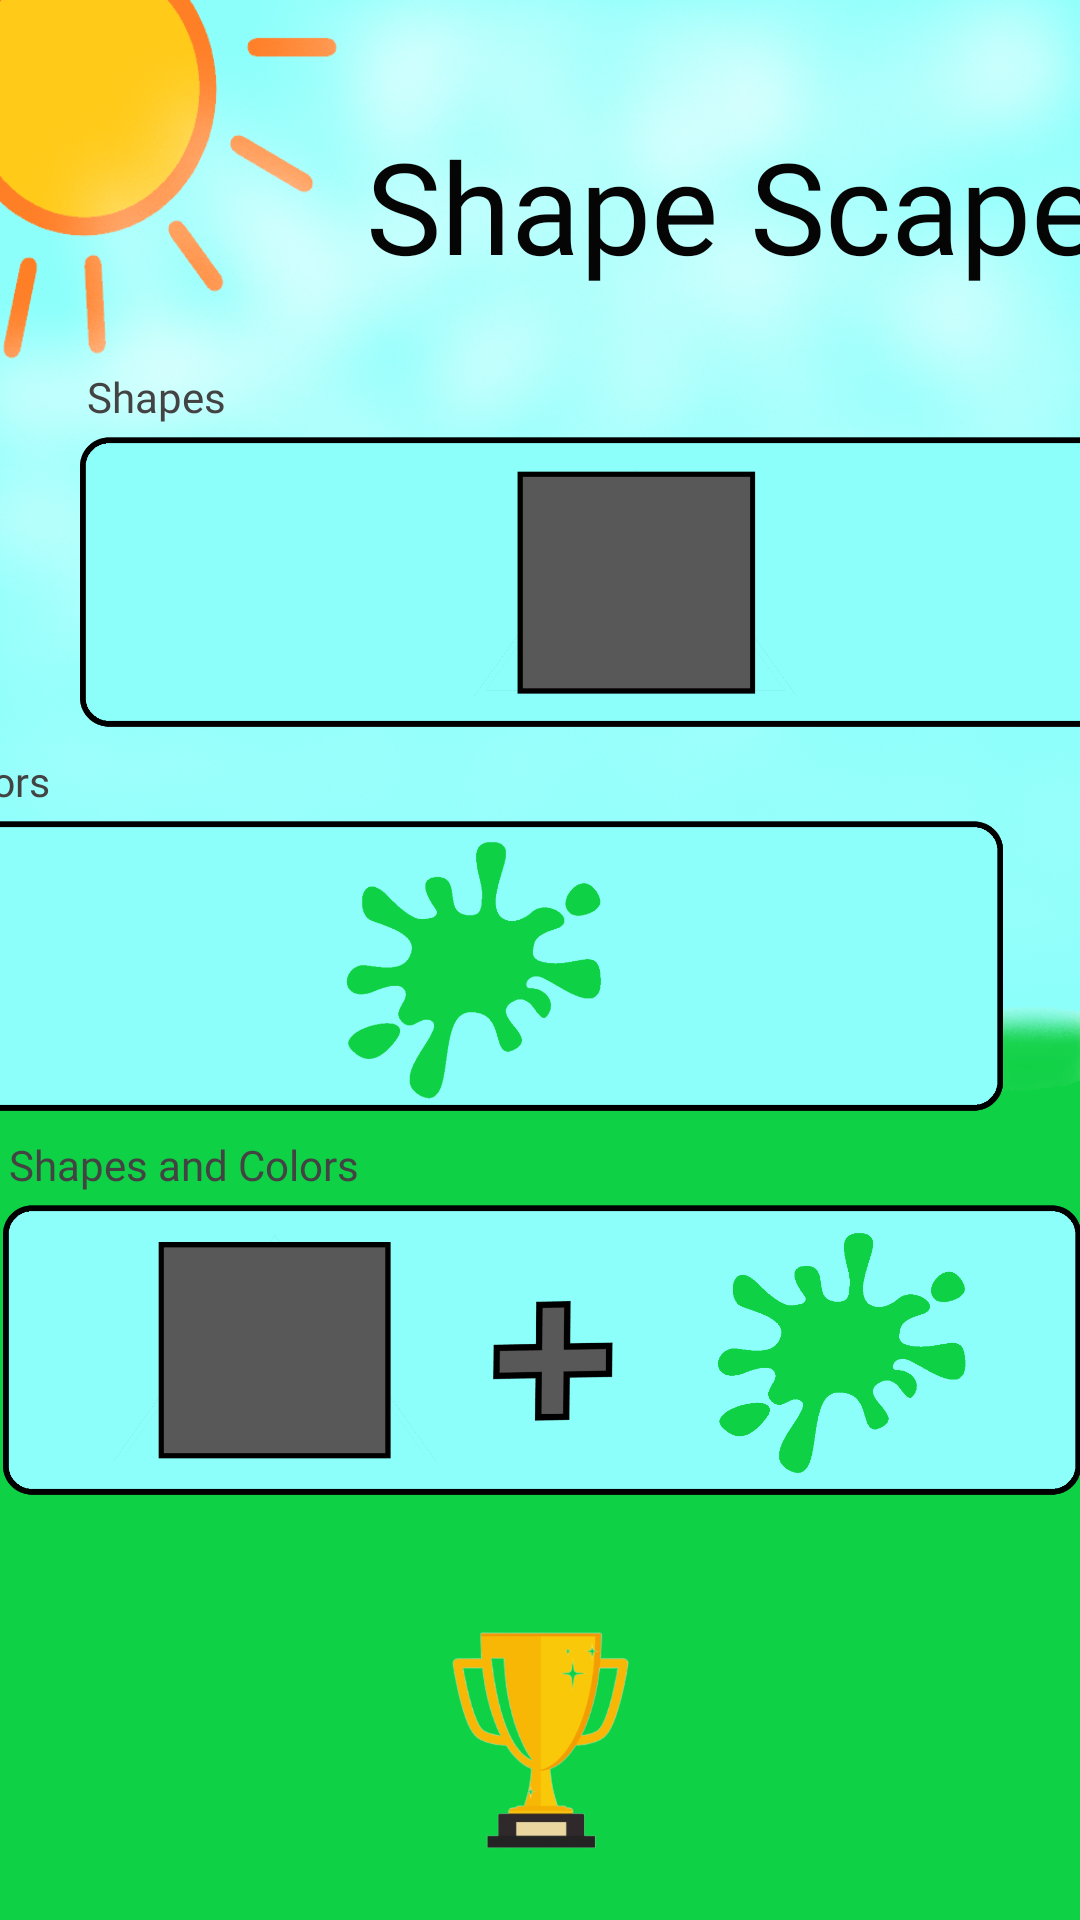

Point at icon controls on the screen. Image size 1080w x 1920h, points as point (x, y).
trophy: point (540, 1740)
